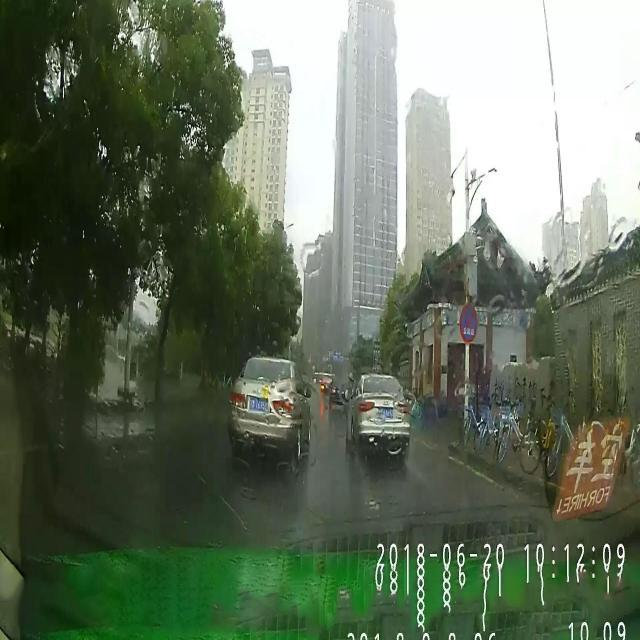car: (228, 356, 312, 455), (346, 374, 412, 459), (328, 374, 352, 408), (320, 371, 336, 395)
